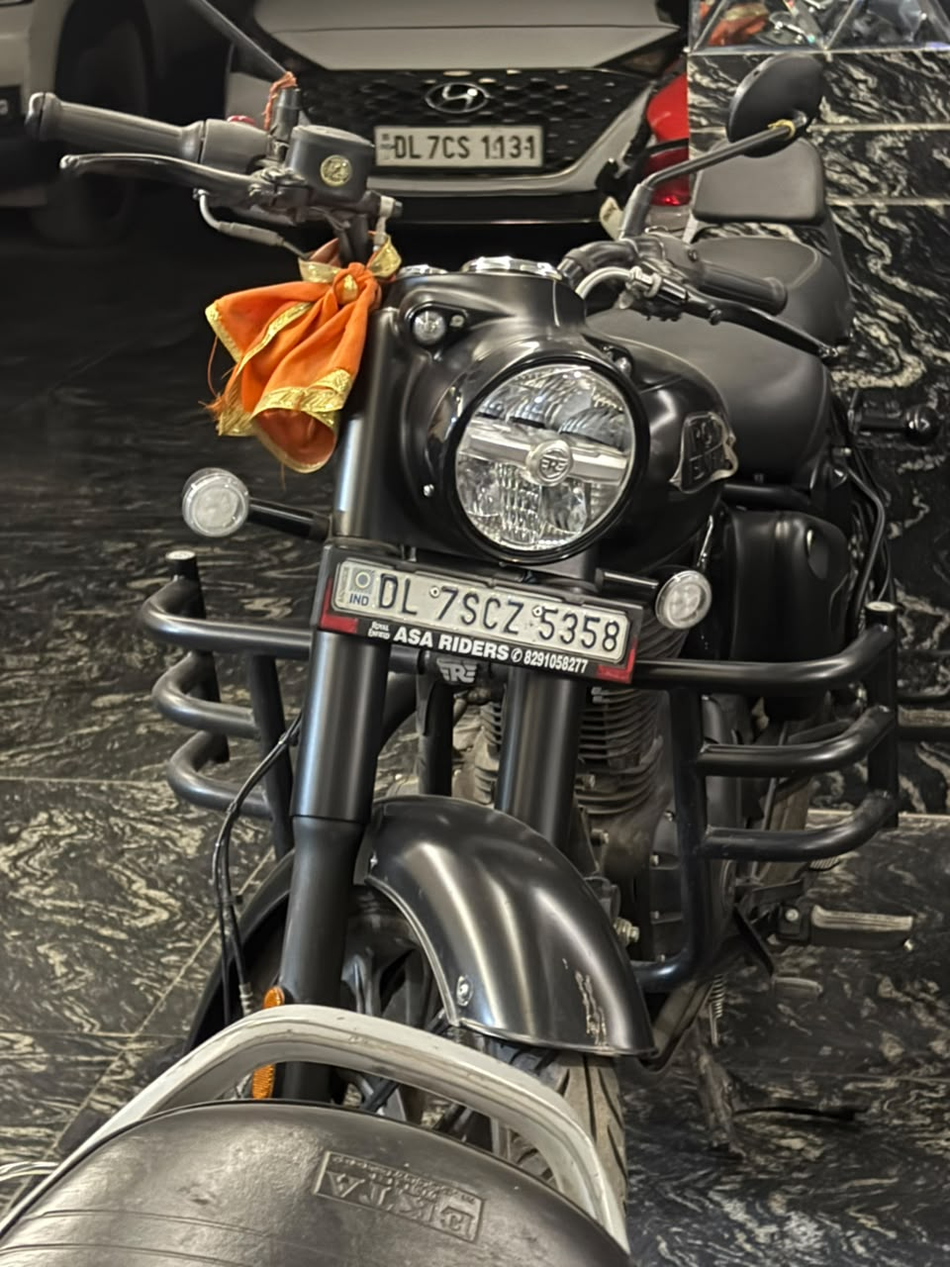vehicle: (327, 558, 630, 676), (374, 123, 542, 166)
